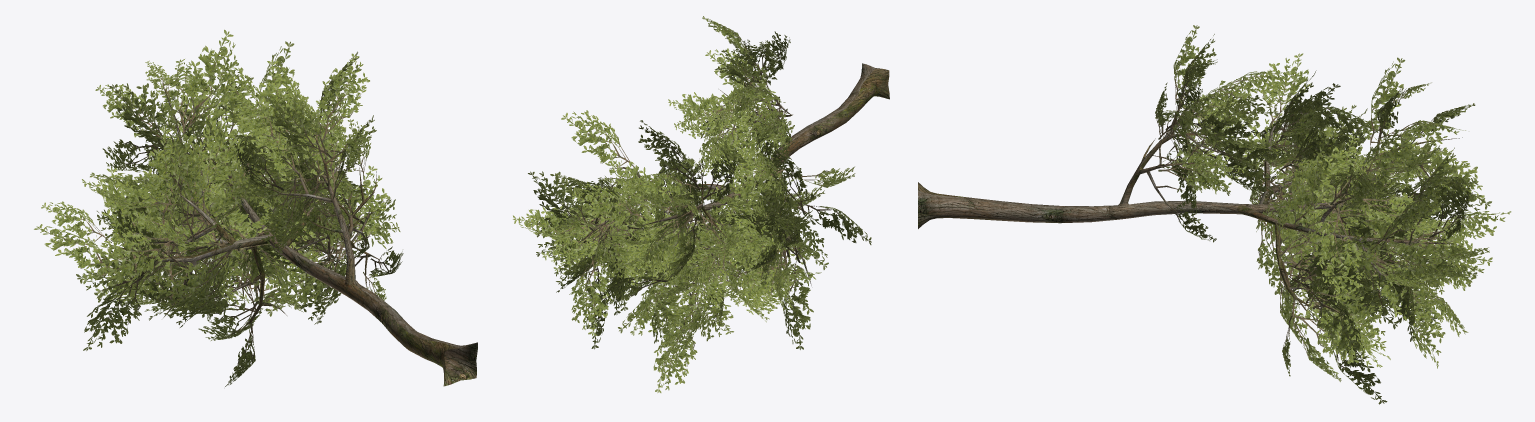
Rendered from wit_06.fbx.
3 renders of one model, left to right at view 1: azimuth 30°, elevation 25°; view 2: azimuth 150°, elevation 25°; view 3: azimuth 270°, elevation 25°, orthographic. The views are drawn at different scales.
Visible parts, largest first — view 1: Circle; view 2: Circle; view 3: Circle.
Part boxes in pixels (x1,y1,x2,y2): Circle: [34, 29, 477, 386]; Circle: [513, 16, 889, 392]; Circle: [918, 25, 1511, 404].
Size of the model in its own units: 1993 by 2019 by 2865.
